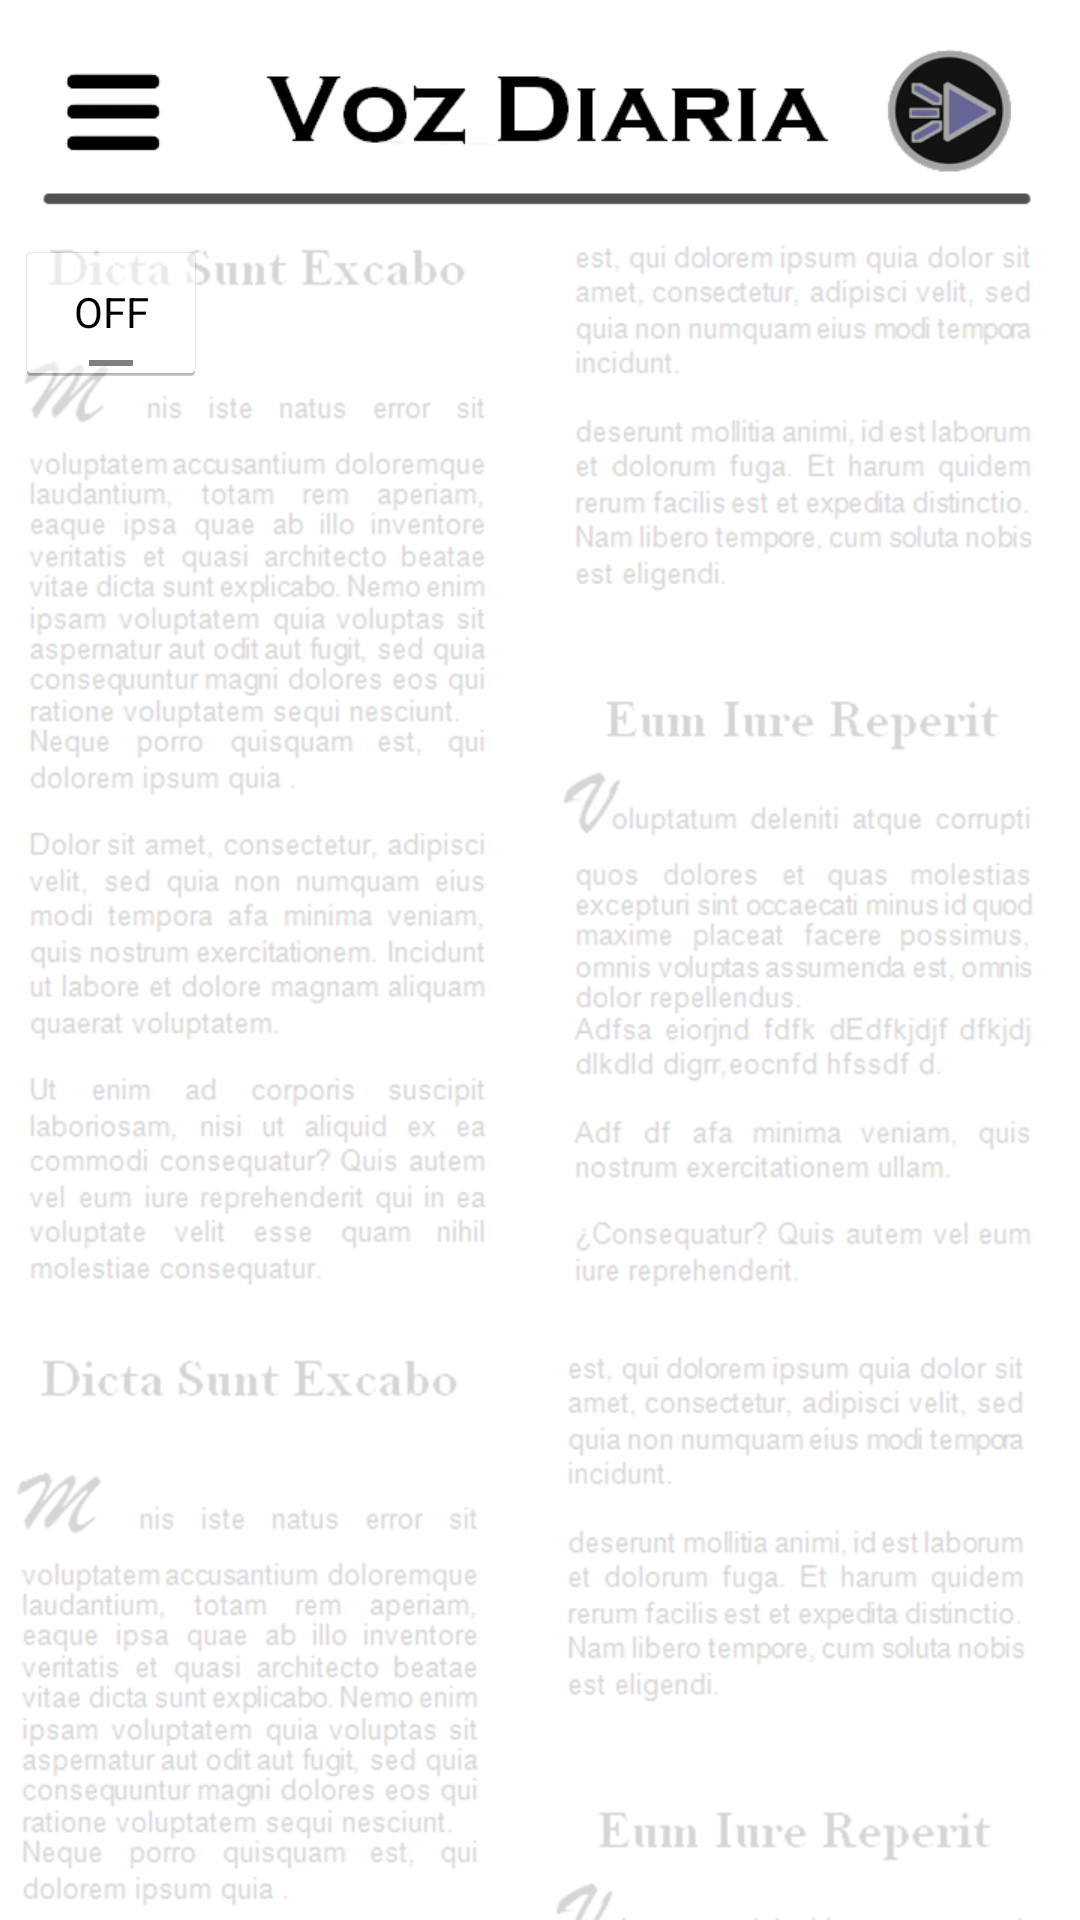

Where icons sit on this 1080 x 1920 app screen, as (x1, y1, x2, y2):
barra: (66, 73, 160, 151)
play barra: (888, 50, 1011, 172)
